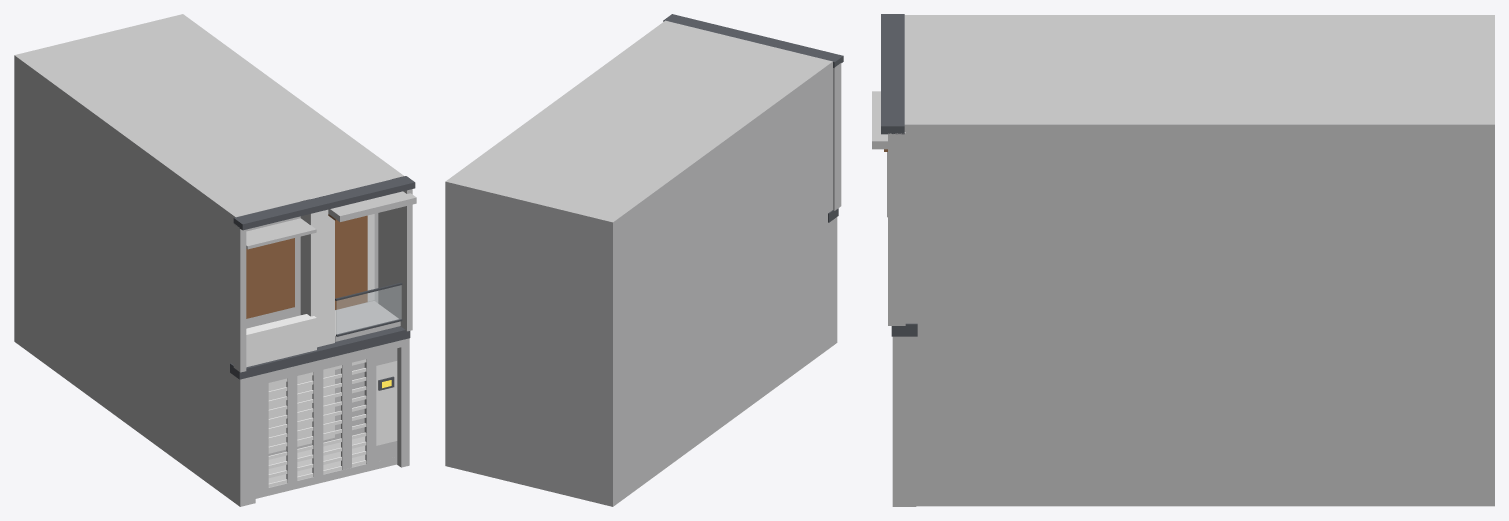
File: tube_house_5.glb
3 renders of one model, left to right at view 1: azimuth 30°, elevation 25°; view 2: azimuth 150°, elevation 25°; view 3: azimuth 270°, elevation 25°, orthographic. The views are drawn at different scales.
Parts seen in each view (by area): view 1: House_Core_Body_0, F2_Left_Win_Frame_64, F2_Cobblestone_Column_62, GF_Portal_L_1, F2_Balcony_Door_Frame_72, Gate_Panel_Frame_2.001_79, F2_Planter_Box_Body_63, Roof_Dark_Slate_Capping_78, GF_Portal_Slate_Capping_4, F2_Glass_Balcony_Railing_67, GF_Recessed_Door_Frame_58, F2_White_Side_L_60 (+12 smaller); view 2: House_Core_Body_0, Roof_Dark_Slate_Capping_78, F2_White_Side_L_60, GF_Portal_L_1; view 3: House_Core_Body_0, GF_Portal_R_2, F2_White_Side_R_61, Roof_Dark_Slate_Capping_78, F2_Top_Right_Roof_Beam_74.
Boxes of the visible parts, x1,y1,x2,y2 form: House_Core_Body_0: (14, 14, 404, 503); F2_Left_Win_Frame_64: (246, 238, 294, 318); F2_Cobblestone_Column_62: (310, 193, 334, 347); GF_Portal_L_1: (231, 374, 255, 506); F2_Balcony_Door_Frame_72: (335, 215, 367, 309); Gate_Panel_Frame_2.001_79: (255, 356, 397, 498); F2_Planter_Box_Body_63: (246, 314, 316, 367); Roof_Dark_Slate_Capping_78: (233, 176, 415, 230); GF_Portal_Slate_Capping_4: (230, 326, 410, 379); F2_Glass_Balcony_Railing_67: (336, 285, 401, 334); GF_Recessed_Door_Frame_58: (268, 370, 334, 453); F2_White_Side_L_60: (233, 223, 246, 372); House_Core_Body_0: (445, 20, 832, 506); Roof_Dark_Slate_Capping_78: (663, 14, 843, 67); F2_White_Side_L_60: (833, 63, 841, 210); GF_Portal_L_1: (833, 217, 837, 345); House_Core_Body_0: (904, 15, 1494, 506); GF_Portal_R_2: (892, 336, 916, 506); F2_White_Side_R_61: (888, 132, 905, 325); Roof_Dark_Slate_Capping_78: (881, 14, 904, 134); F2_Top_Right_Roof_Beam_74: (872, 91, 1011, 149).
Size of the model in its own units: 4.5 by 7.14 by 10.55.
